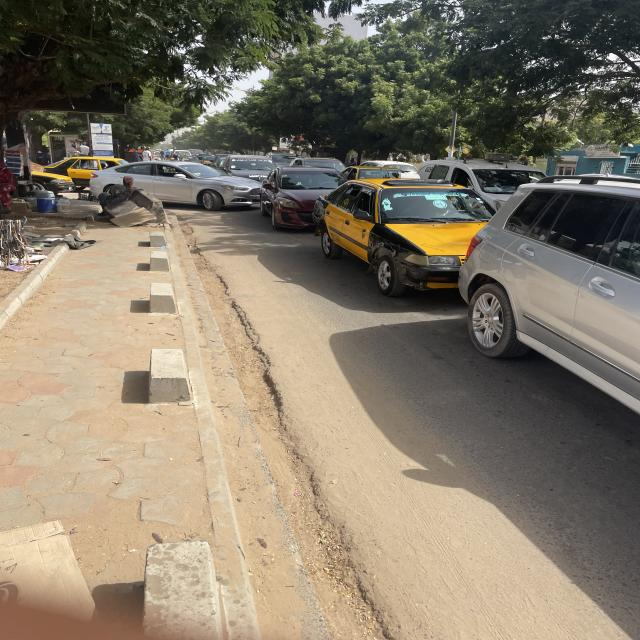arret tata: (440, 145, 483, 158)
particulier: (456, 172, 640, 419), (419, 160, 575, 223), (89, 162, 265, 214), (257, 165, 354, 232), (222, 155, 280, 182)
taxi: (311, 177, 488, 300), (39, 157, 144, 190), (16, 160, 89, 198)
